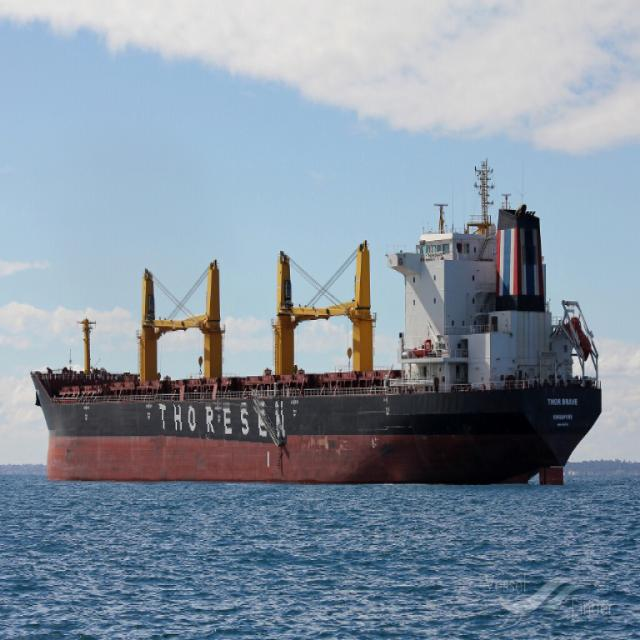OCR: (155, 398, 287, 448)
